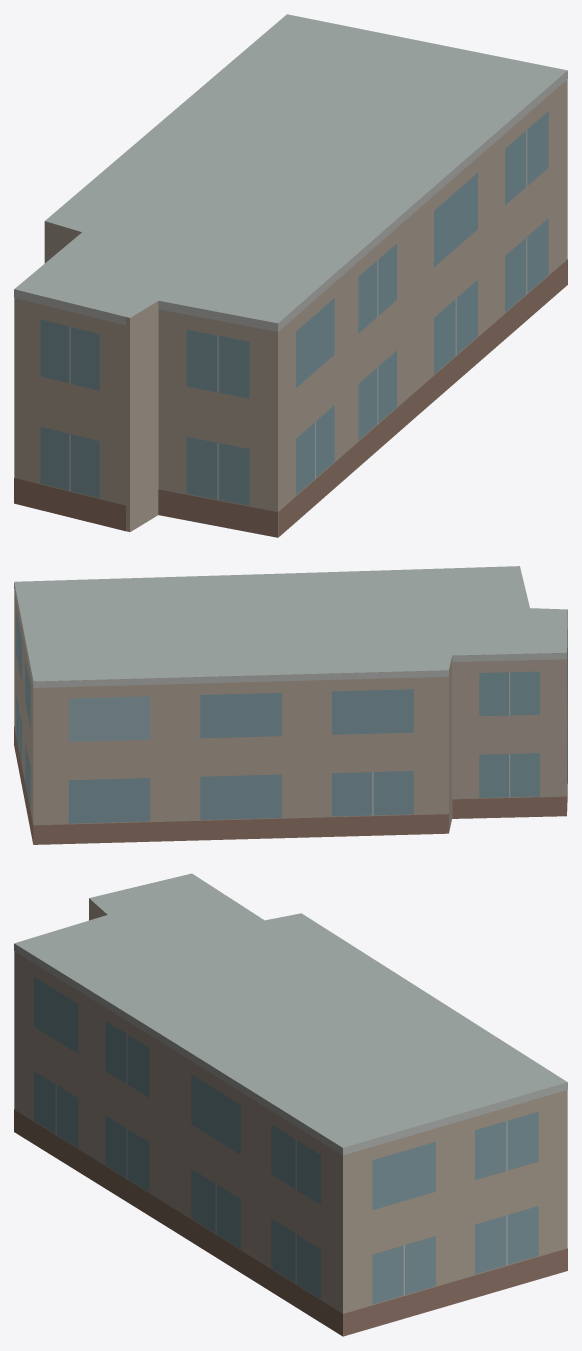
Rendered from survey-upis-32677973.glb.
The picture shows the model from 3 angles, top to bottom: view 1: azimuth 30°, elevation 25°; view 2: azimuth 150°, elevation 25°; view 3: azimuth 270°, elevation 25°; orthographic projection. The views are drawn at different scales.
Visible parts, largest first — view 1: survey-upis-32677973.tmp; view 2: survey-upis-32677973.tmp; view 3: survey-upis-32677973.tmp.
Part boxes in pixels (left/top/right/bottom): survey-upis-32677973.tmp: left=14, top=14, right=567, bottom=537; survey-upis-32677973.tmp: left=14, top=566, right=567, bottom=844; survey-upis-32677973.tmp: left=14, top=873, right=567, bottom=1336.
Size of the model in its own units: 19.06 by 6.1 by 16.24.
